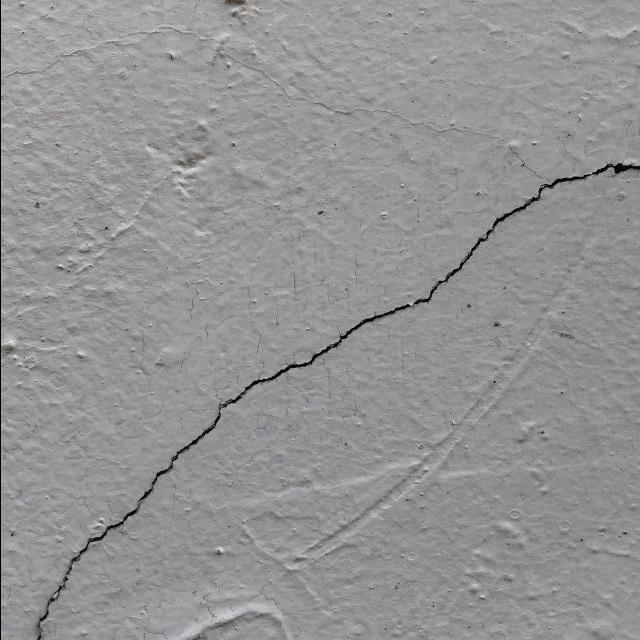SurfaceCrack: (5, 99, 640, 636)
